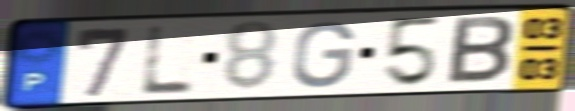5: (379, 14, 446, 89)
7: (73, 25, 134, 99)
8: (218, 19, 286, 96)
B: (443, 14, 517, 87)
G: (289, 19, 358, 91)
L: (137, 23, 198, 97)
